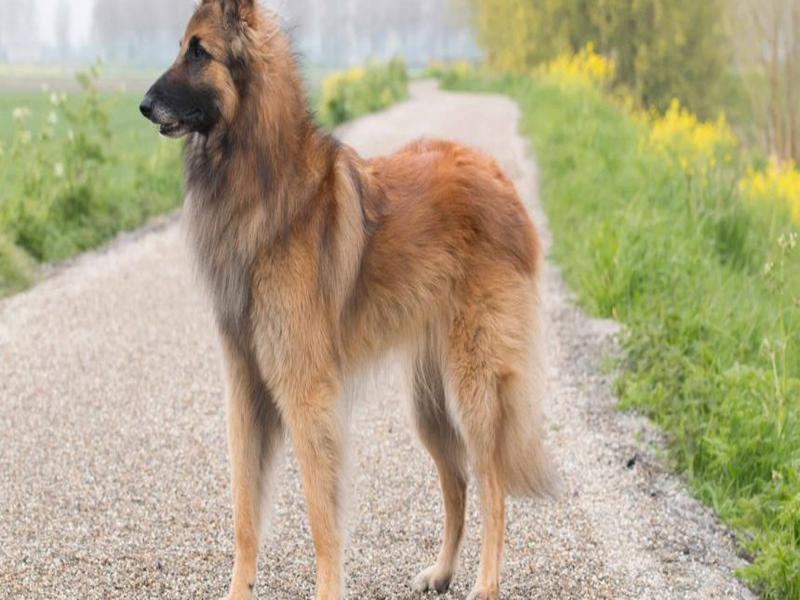dog_stand: (139, 1, 565, 600)
